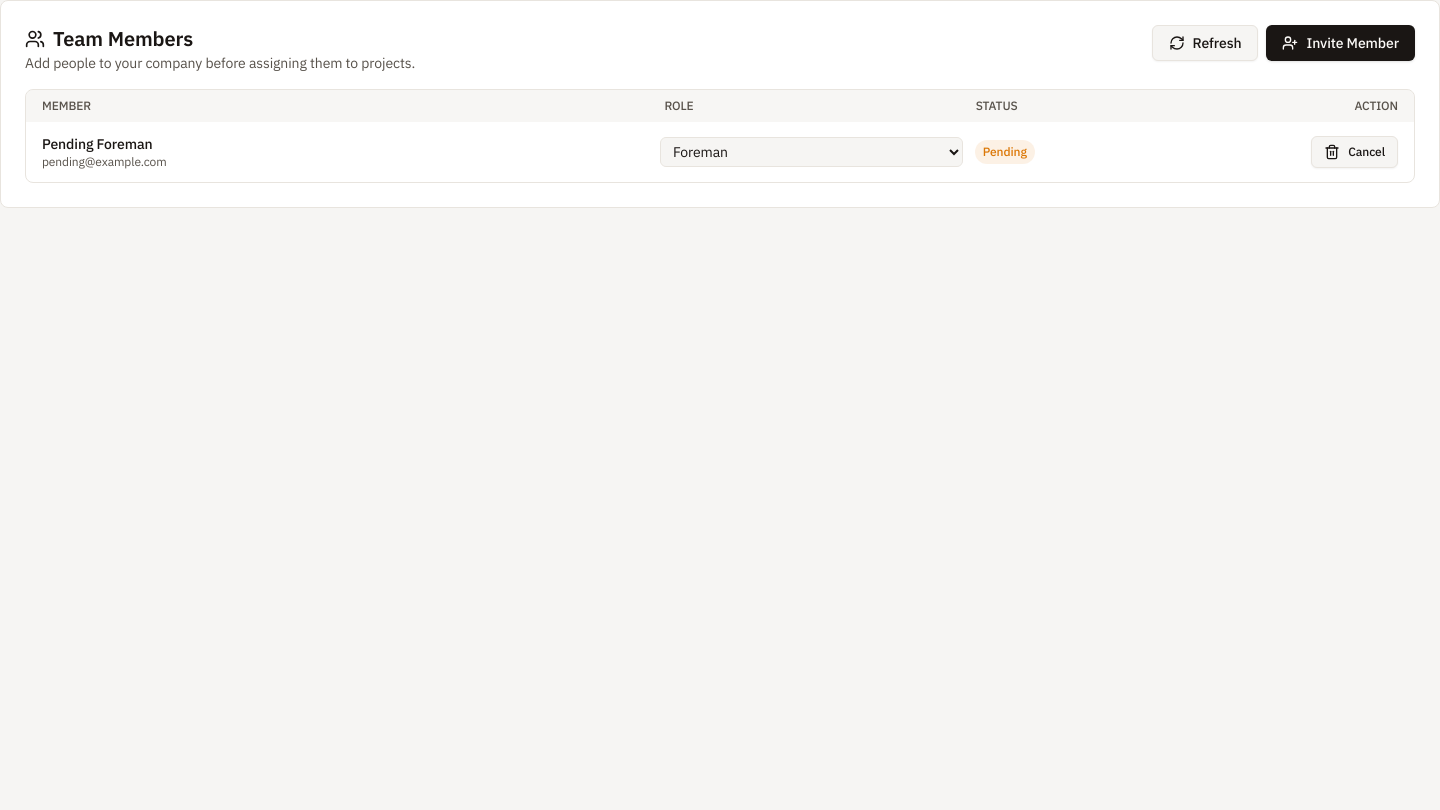
Test: CompanyTeamMembersSection › cancels a pending invitation and removes it from the table
Expected: the text "Pending Foreman" is shown, [42,135,153,153]
Click the button "Cancel": {"x": 1355, "y": 152} [1311,136,1398,168]
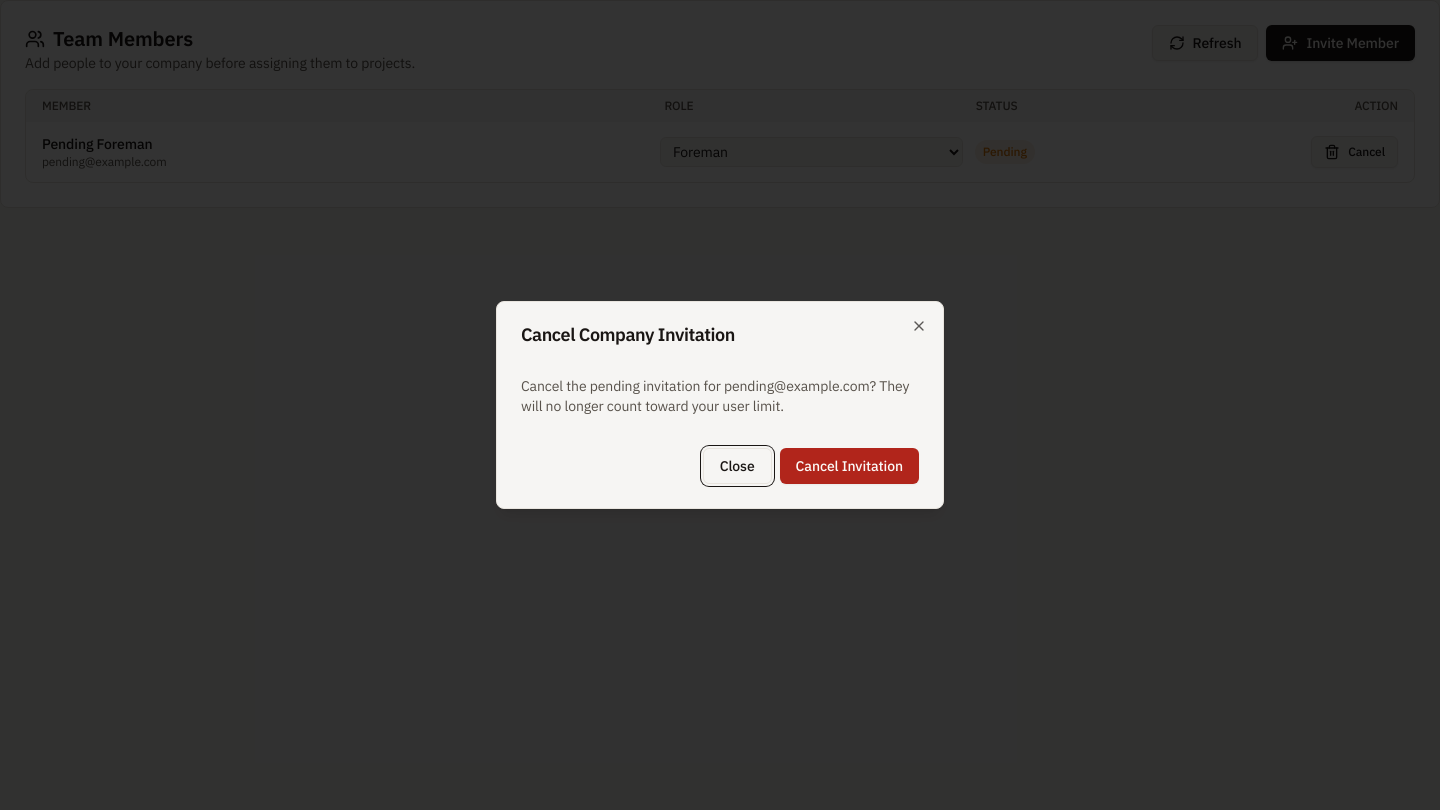
Result: the heading "Cancel Company Invitation" is shown at [521,323,735,346]
Click the button "Cancel Invitation": {"x": 849, "y": 466} [780,448,919,484]
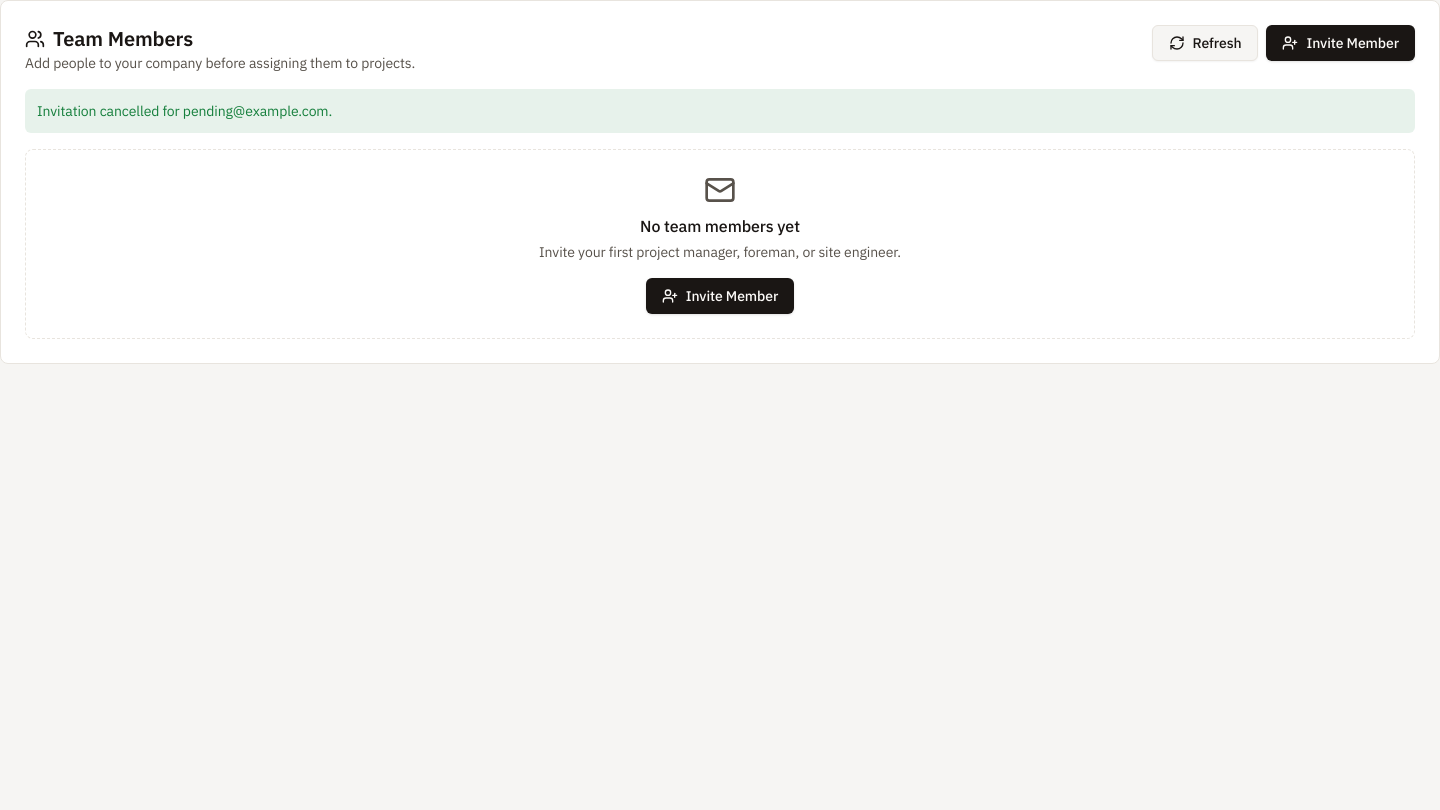
Result: the text "Invitation cancelled for pending@example.com." is shown at [25,89,1415,133]
Result: the text "Pending Foreman" is gone
